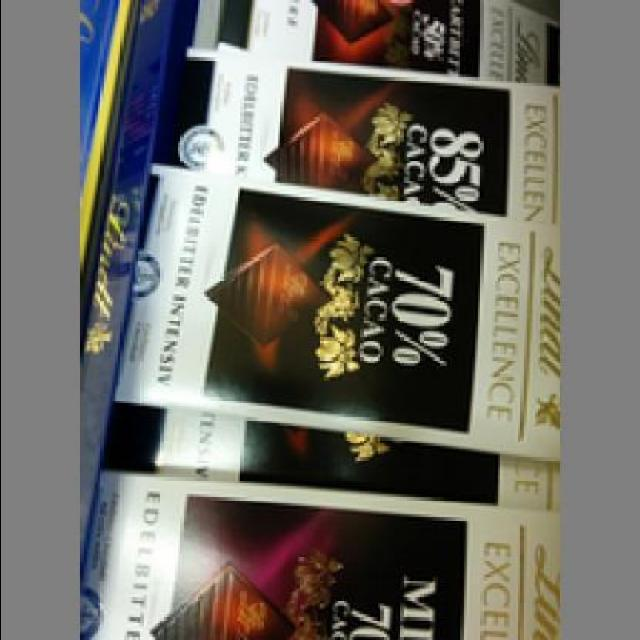Chocolate bar: (117, 186, 563, 443), (94, 480, 560, 637), (163, 56, 563, 216)
